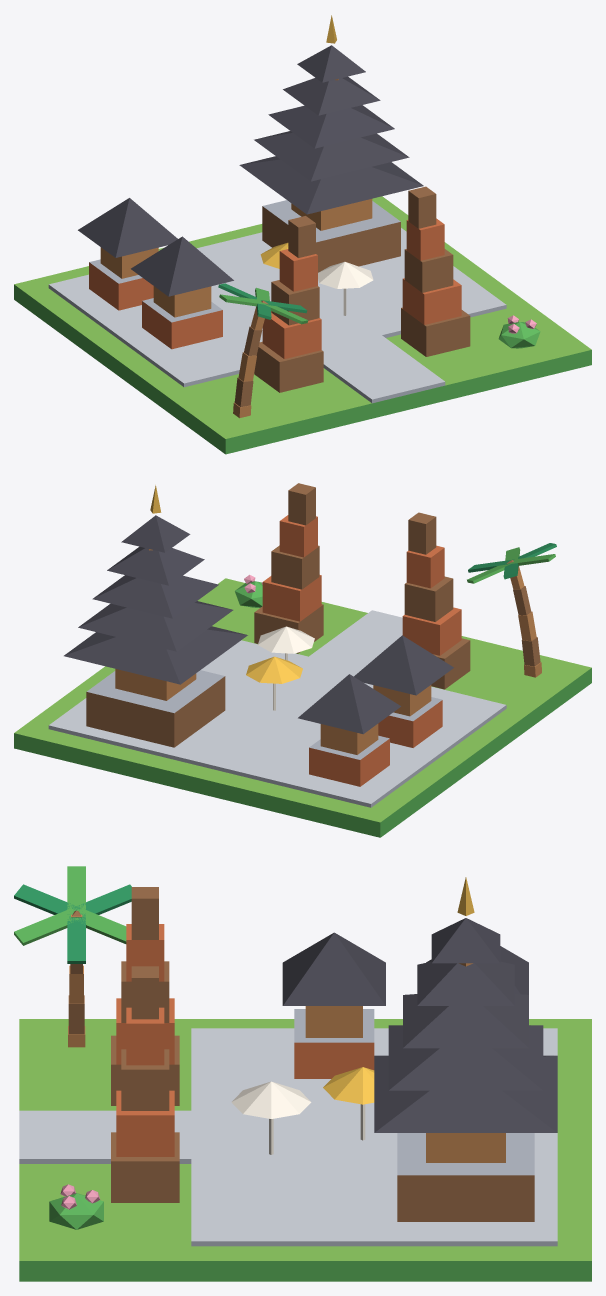
The model's file is public_temple.glb.
3 renders of one model, top to bottom at view 1: azimuth 30°, elevation 25°; view 2: azimuth 150°, elevation 25°; view 3: azimuth 270°, elevation 25°, orthographic. The views are drawn at different scales.
Parts seen in each view (by area): view 1: public_temple; view 2: public_temple; view 3: public_temple.
Boxes of the visible parts, x1,y1,x2,y2 form: public_temple: [14, 15, 591, 454]; public_temple: [14, 483, 591, 837]; public_temple: [14, 866, 591, 1281].
Bounding box in the file's own units: 1 × 0.6609 × 1.01.
